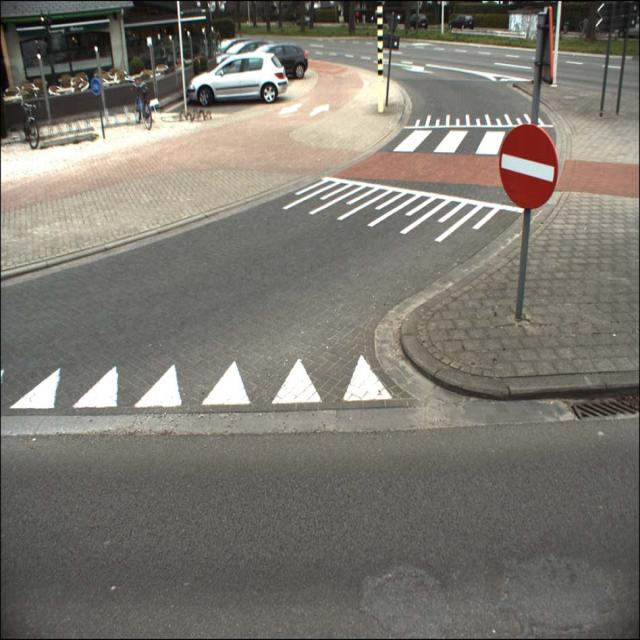girisyok: (499, 123, 558, 209)
